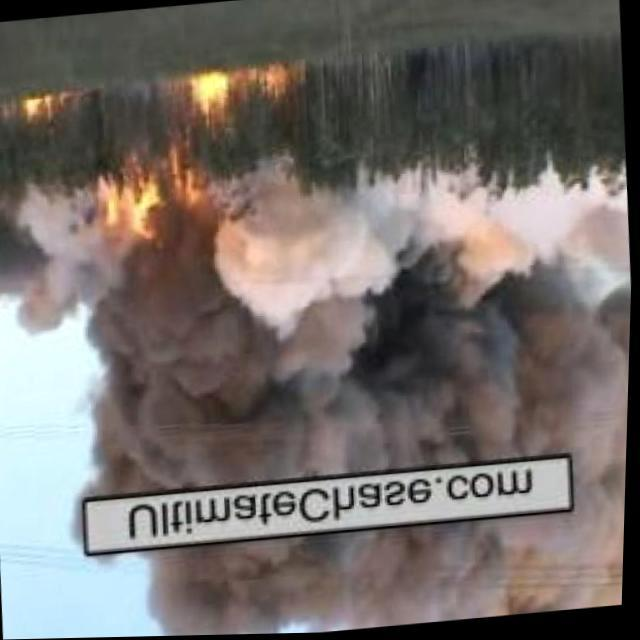fire: (92, 168, 196, 255), (12, 90, 72, 132), (191, 71, 233, 125), (256, 62, 288, 100)
